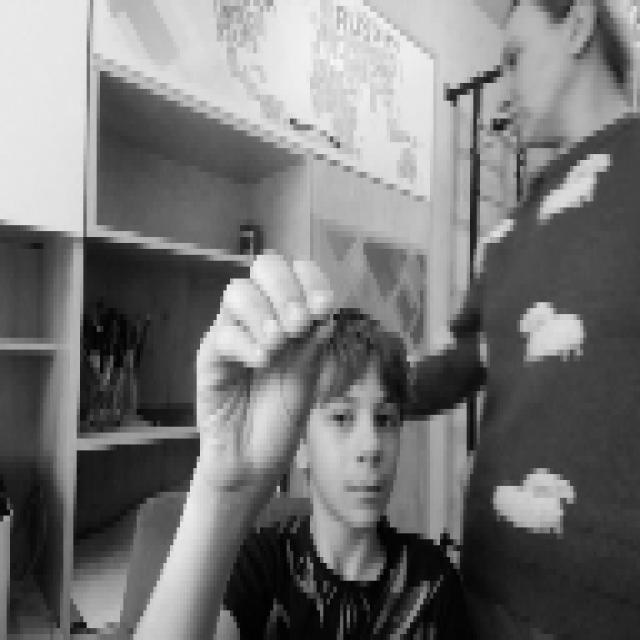left_click: (187, 243, 333, 486)
